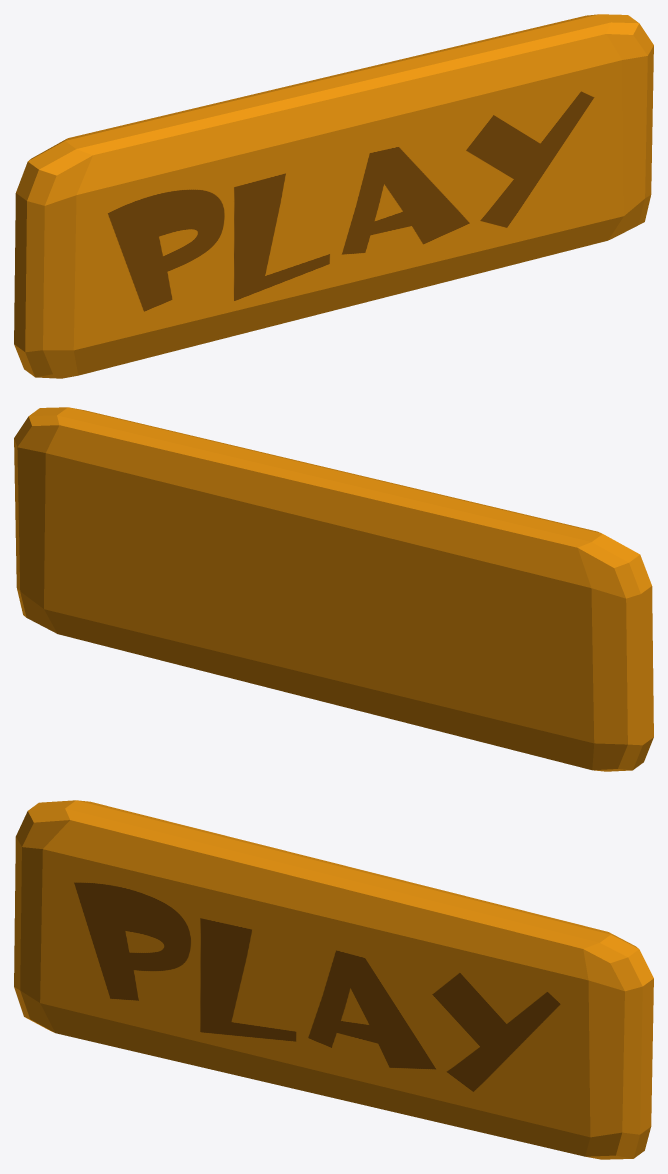
The model's file is LongButton.fbx.
3 renders of one model, top to bottom at view 1: azimuth 30°, elevation 25°; view 2: azimuth 150°, elevation 25°; view 3: azimuth 330°, elevation 25°, orthographic.
Visible parts, largest first — view 1: Cube; view 2: Cube; view 3: Cube.
Boxes of the visible parts, <box> form: Cube: <box>14,14,653,378</box>; Cube: <box>14,407,653,771</box>; Cube: <box>14,800,653,1159</box>.
Size of the model in its own units: 2.75 by 0.944 by 0.2548.
